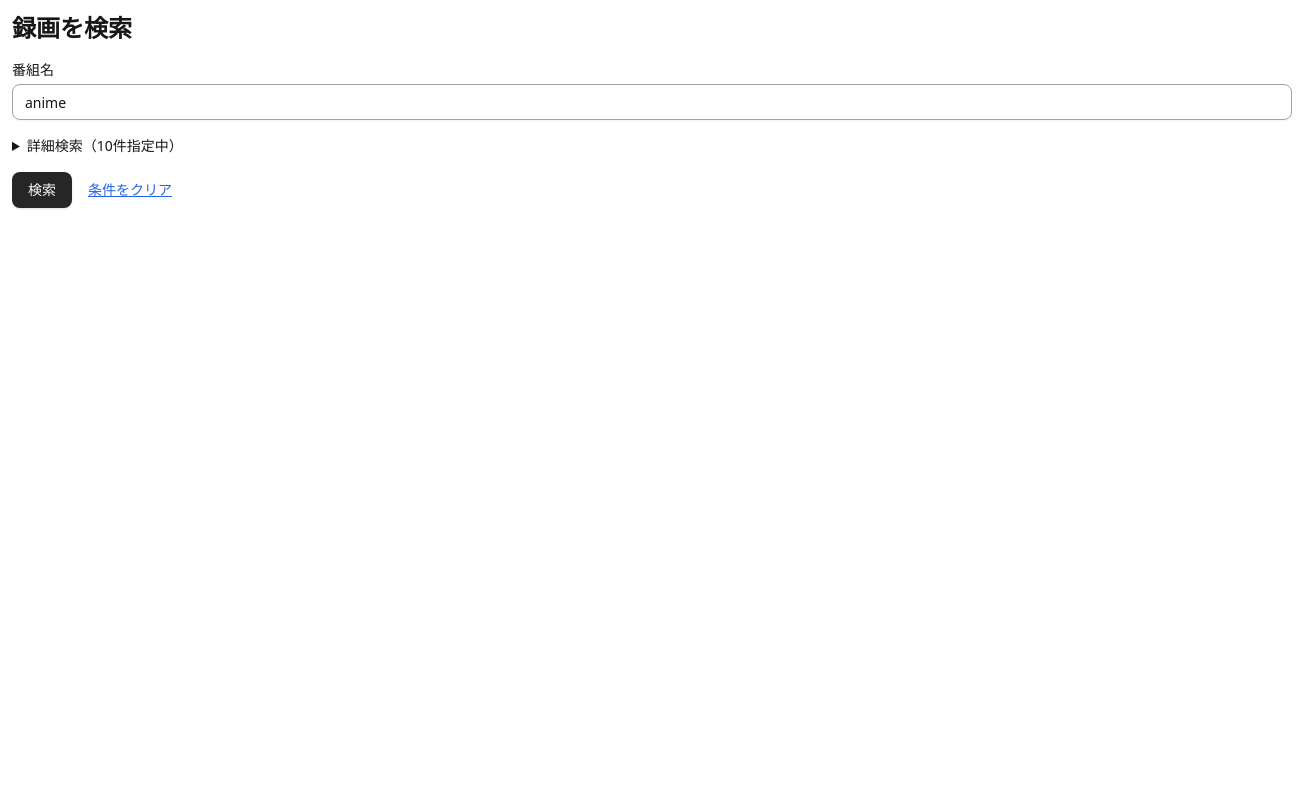
Test: SearchForm › restores all selected values and offers accessible labels
Expected: the field labelled "番組名" holds "anime", [12,84,1292,120]
Expected: the field labelled "チャンネルID" is not shown
Click the heading "詳細検索（10件指定中）".
click(105, 146)  # box [27,136,183,155]
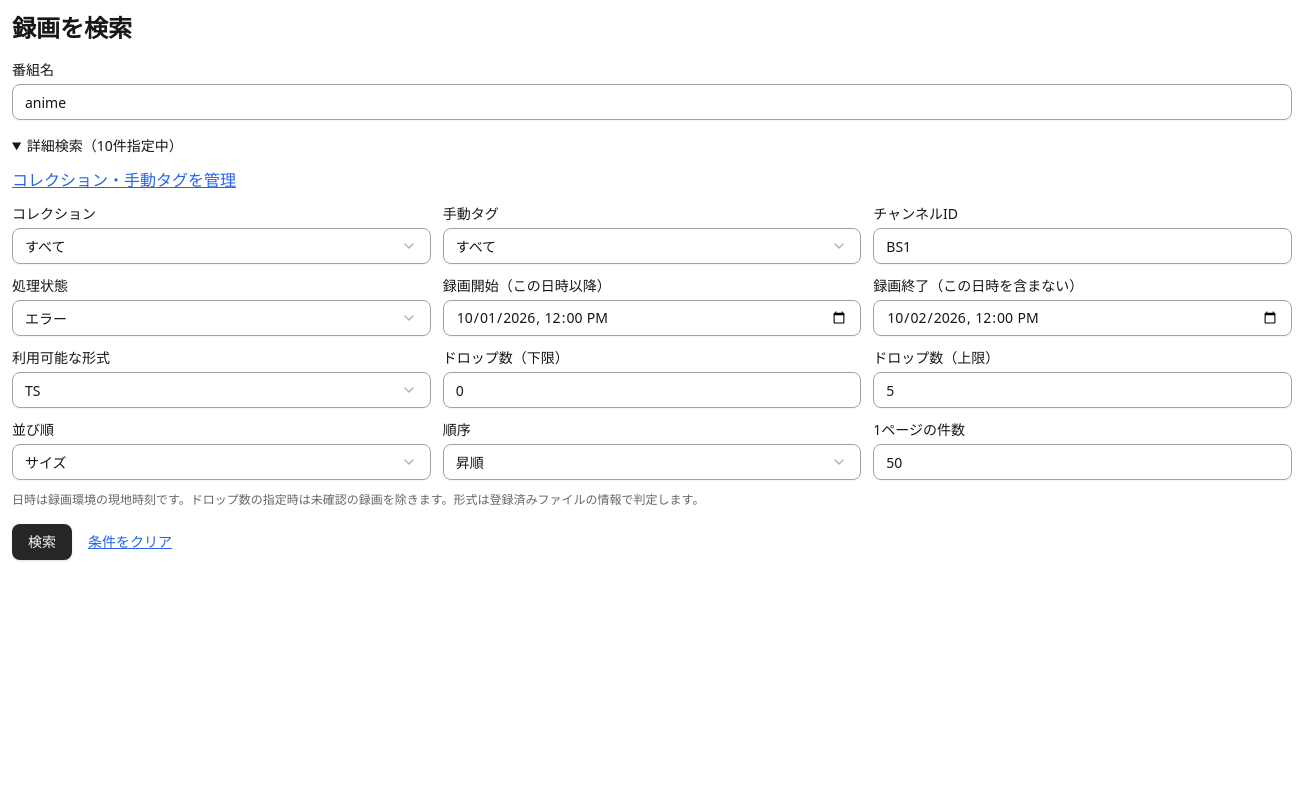
Expected: the field labelled "チャンネルID" is shown, [873,228,1292,264]
Expected: the dropdown labelled "処理状態" shows "エラー", [12,300,431,336]
Expected: the dropdown labelled "利用可能な形式" shows "TS", [12,372,431,408]
